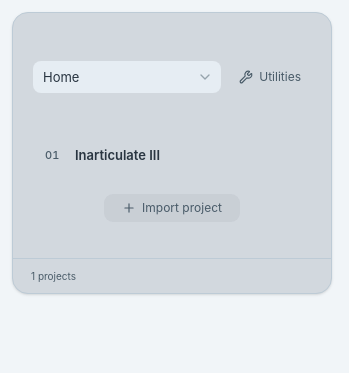
Test case: Sidebar folder drill-in (v1.1.2 T3) › selecting a folder segment switches the view: only members listed
Click the dropdown named "Performance folder".
click(127, 77)  # box [33,61,221,93]
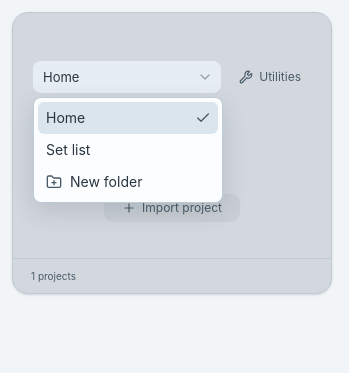
Click the option "Set list".
click(68, 150)  # box [46,141,90,158]
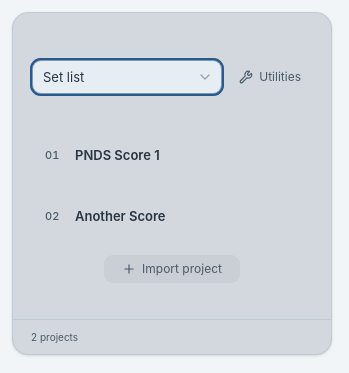
expect the number of elements with test id "project-entry" is 2: met, box [45,146,279,165]; [45,207,279,226]
expect the button "PNDS Score 1" is shown: met, box [75,146,279,165]
expect the dropdown with test id "folder-picker" reads "Set list": met, box [33,61,221,93]
